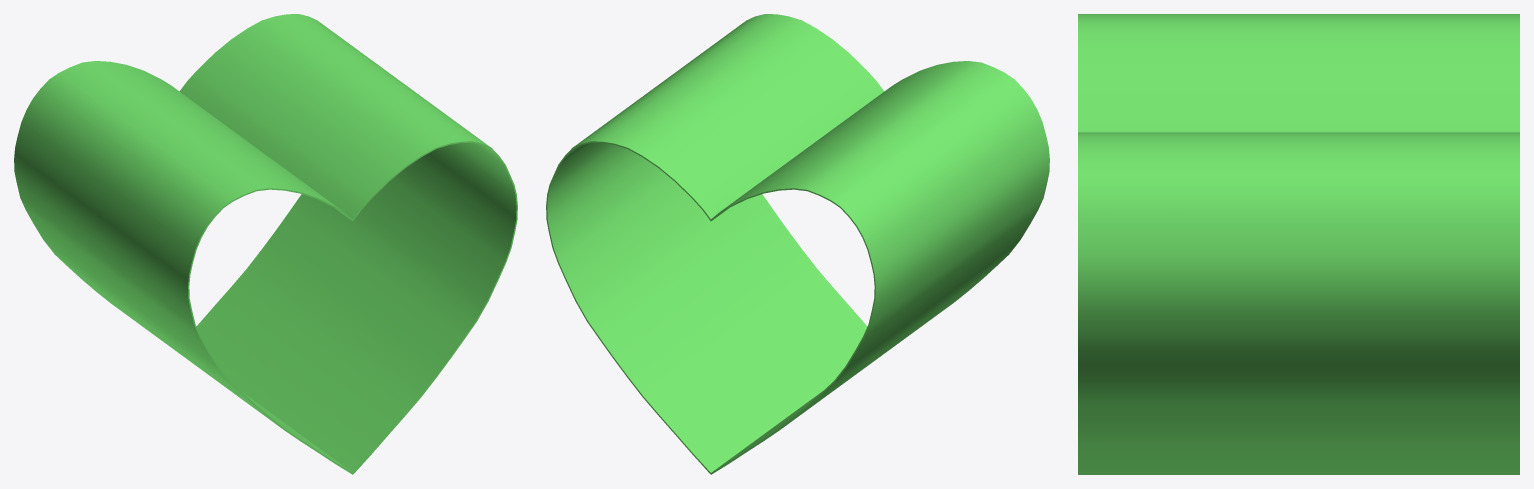
File: hearthollow.fbx
3 views of the same model, side by side, from view 1: azimuth 30°, elevation 25°; view 2: azimuth 150°, elevation 25°; view 3: azimuth 270°, elevation 25° (orthographic). The views are drawn at different scales.
Visible parts, largest first — view 1: hearthollow; view 2: hearthollow; view 3: hearthollow.
Part boxes in pixels (<box>): hearthollow: <box>14,14,517,474</box>; hearthollow: <box>546,14,1049,474</box>; hearthollow: <box>1078,14,1519,474</box>.
Size of the model in its own units: 119 by 108 by 106.
